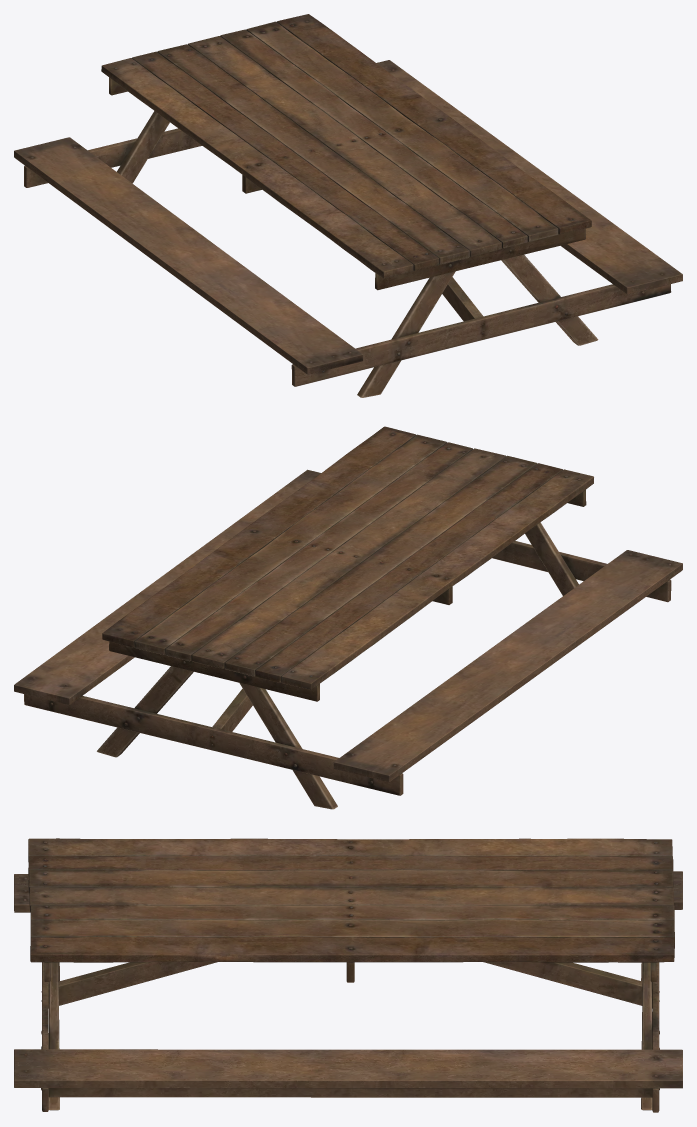
File: wooden_picnic_table.glb
3 views of the same model, one above another, from view 1: azimuth 30°, elevation 25°; view 2: azimuth 150°, elevation 25°; view 3: azimuth 270°, elevation 25° (orthographic). The views are drawn at different scales.
Visible parts, largest first — view 1: wooden_picnic_table; view 2: wooden_picnic_table; view 3: wooden_picnic_table.
Boxes of the visible parts, box(x1,y1,x2,y2) form: wooden_picnic_table: box(14, 14, 682, 397); wooden_picnic_table: box(14, 426, 682, 809); wooden_picnic_table: box(14, 838, 682, 1112).
Size of the model in its own units: 2.24 by 0.746 by 3.02.
2 materials, 2 textured.
